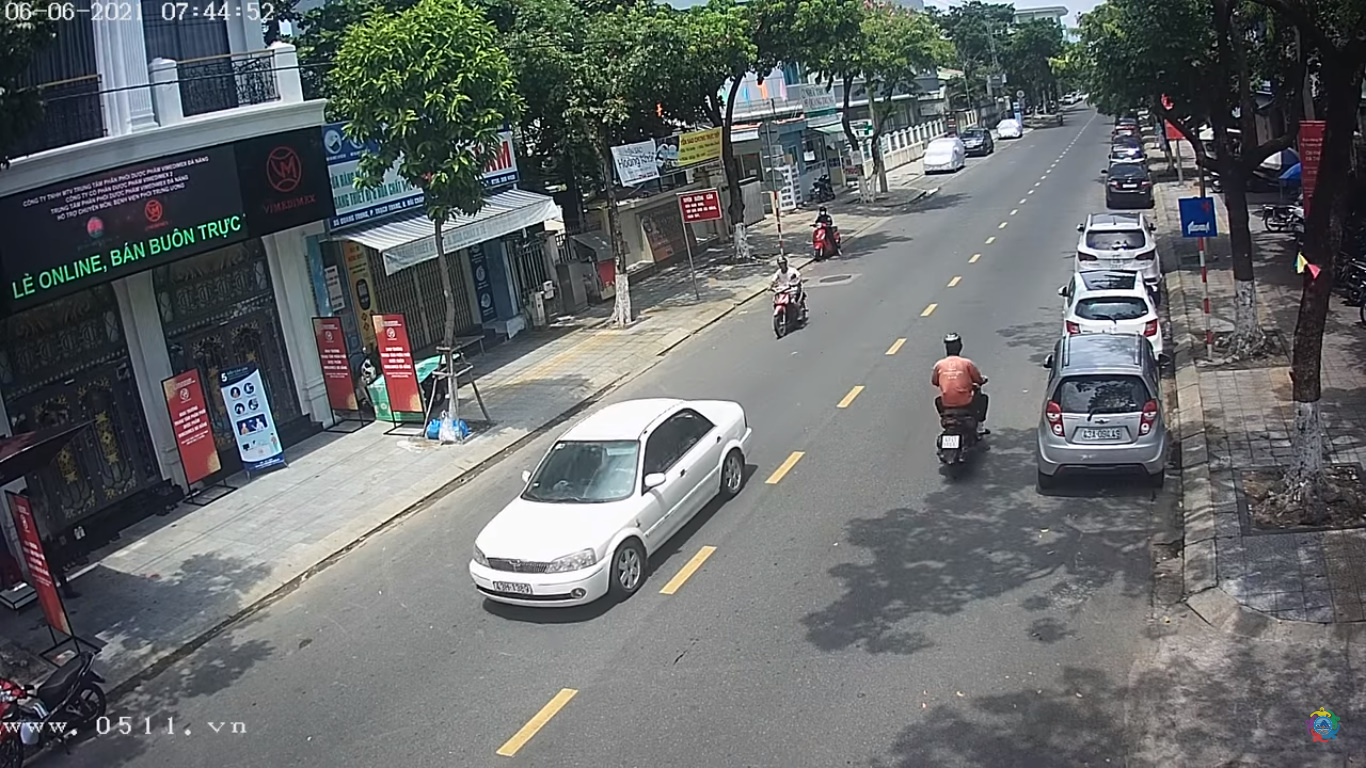car: (465, 402, 759, 609)
